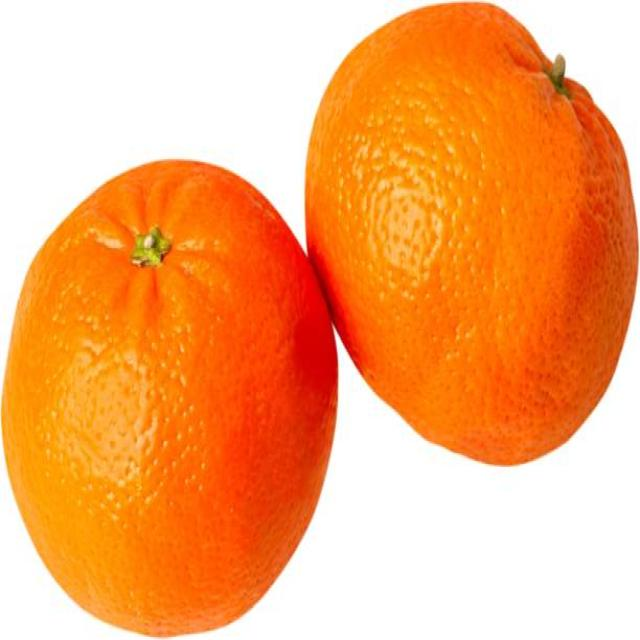Ripe: (0, 149, 342, 639), (300, 0, 640, 465)
